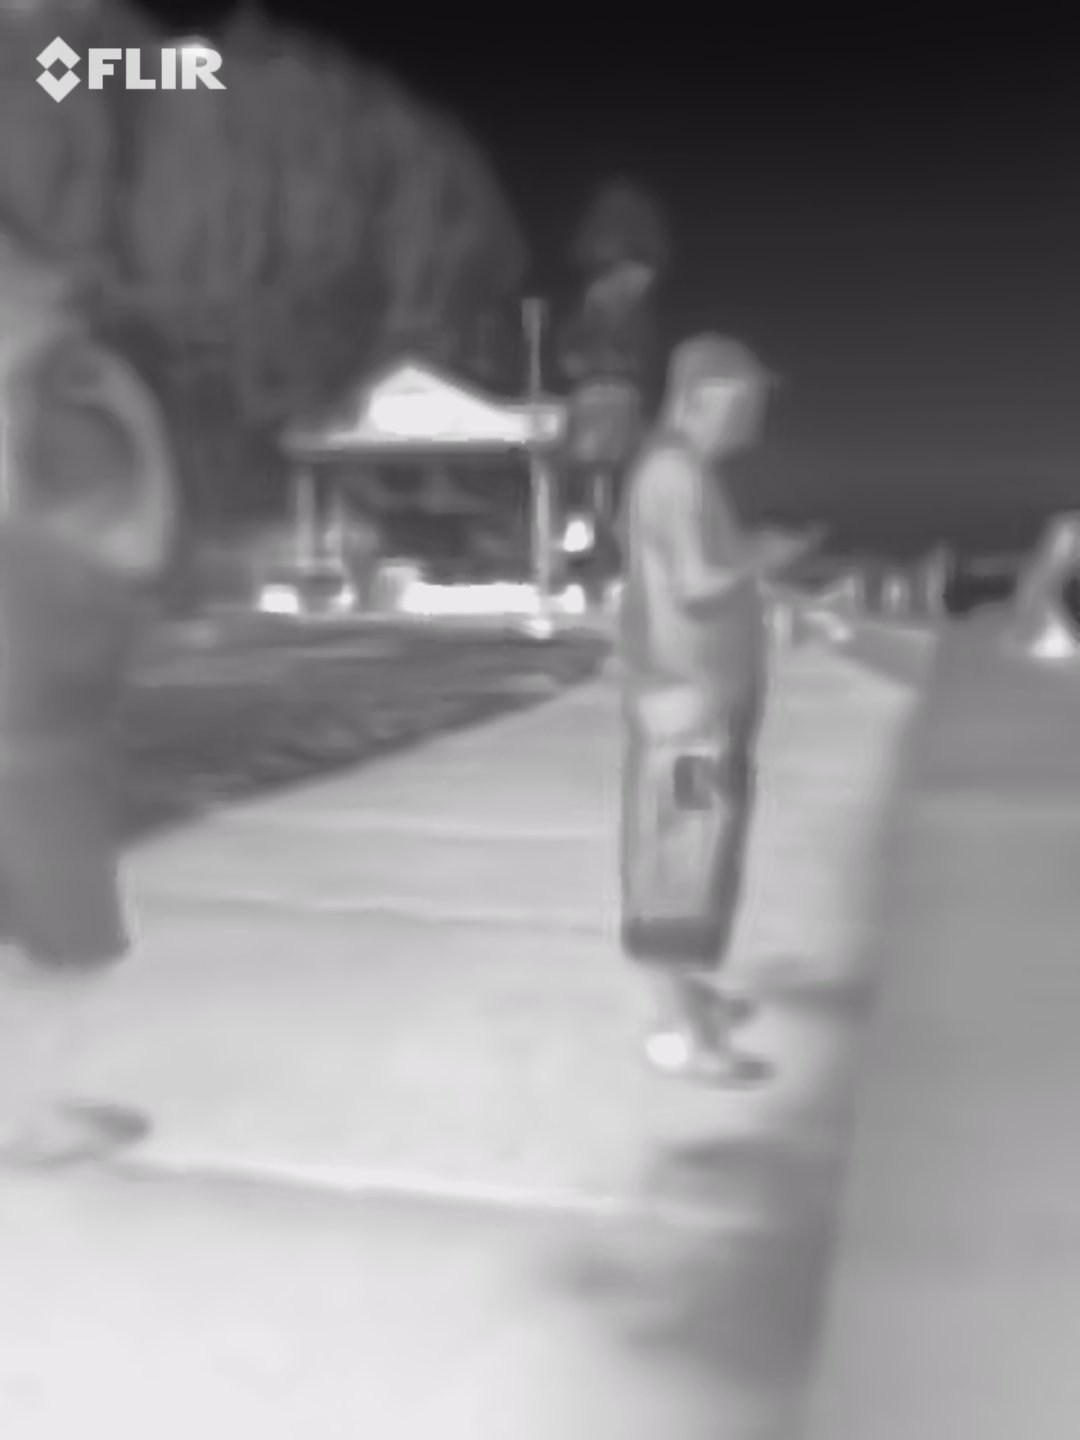head: (656, 328, 773, 471)
